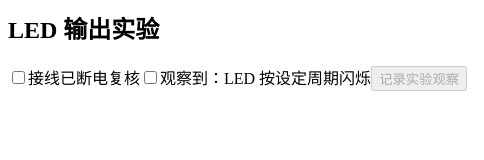
Scenario: LabChecklist › requires the exact safety and named observation confirmations before emitting one manual record
The image size is (484, 160).
Later steps or results of the test are not shown.
Expected: the button "记录实验观察" is disabled, [371,66,467,91]
What coordinates should you click on to do the following:
click the checkbox labelled "接线已断电复核"
I would click on:
 (18, 77)
Its box is [12,71,25,84].
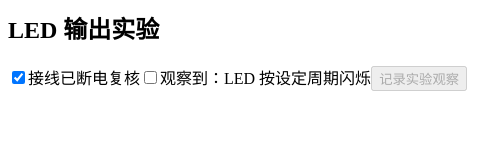
Expected: the button "记录实验观察" is disabled, [371,66,467,91]
What coordinates should you click on to do the following:
click the checkbox labelled "观察到：LED 按设定周期闪烁"
I would click on:
 (150, 77)
Its box is [144,71,157,84].
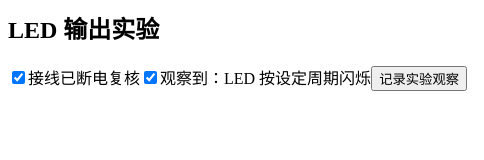
Result: the button "记录实验观察" is enabled at [371,66,467,91]
